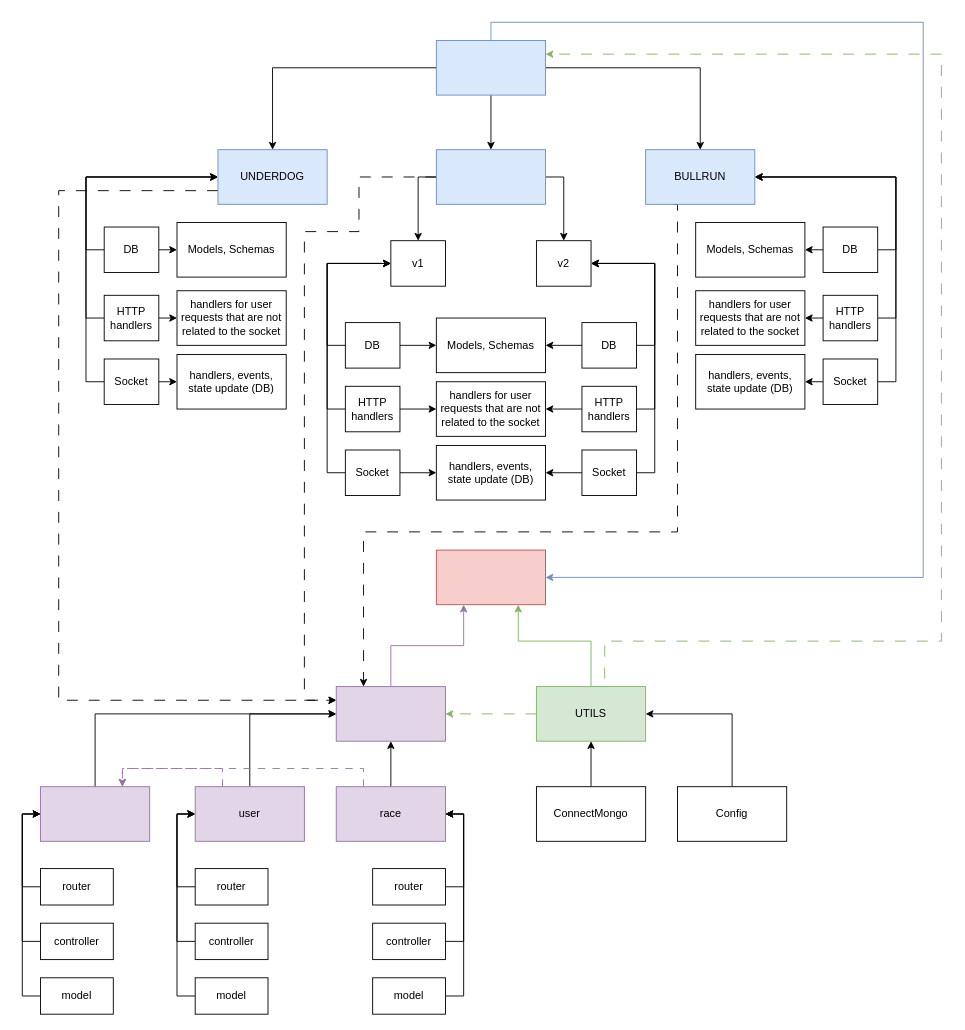
Some shapes in this 965 by 1030 pixel diagram are drawn without their labels. The shapes that lost their labels are listed below. From the top down, each one's box as (x1, y1, x2, y2) in pixels, then its label:
(435, 40, 546, 95): Games
(435, 149, 546, 204): RABBIT_HOLE
(435, 549, 546, 605): APP
(335, 686, 445, 741): ENTITIES
(40, 786, 150, 841): progress (by user and race)
